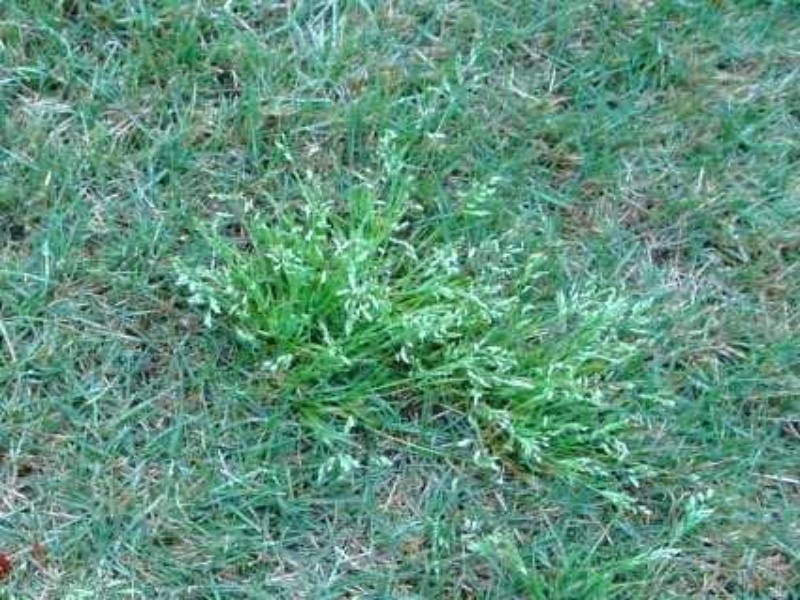weed: (203, 235, 446, 399), (475, 353, 614, 479)
